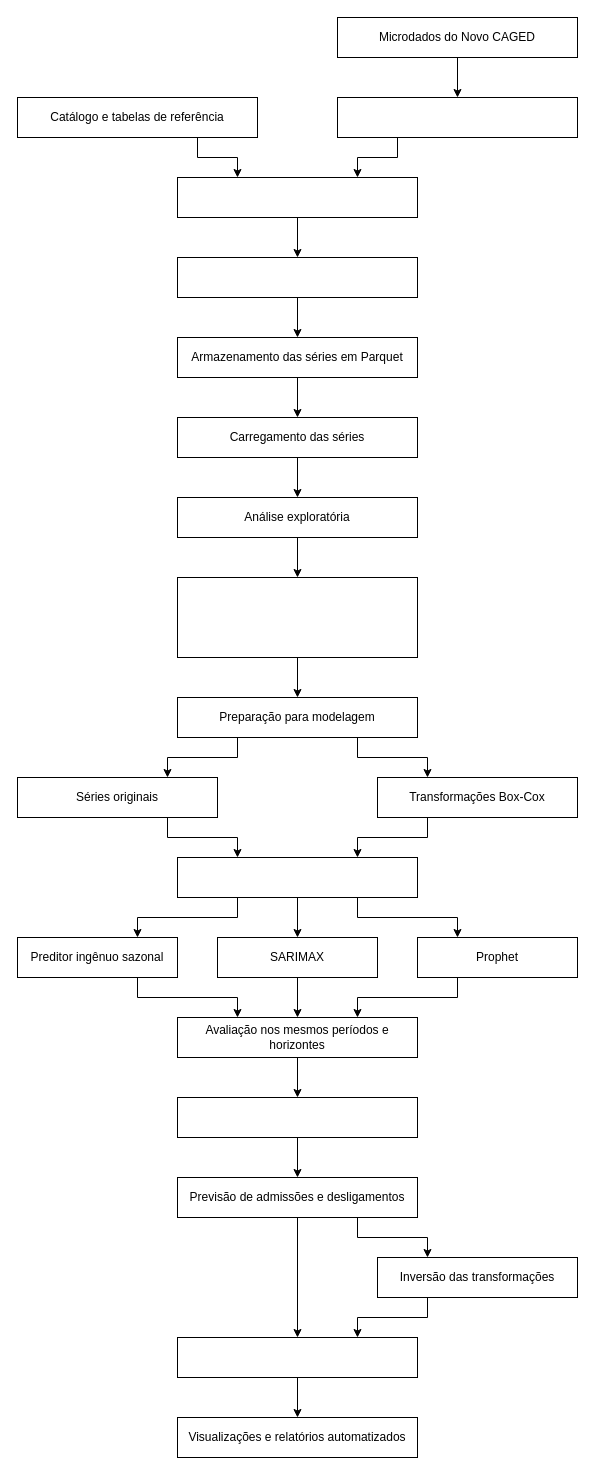
Some shapes in this 595 by 1475 pixel diagram are drawn without their labels. The centre of each missing label's shape, as x and y in pixels:
"Agregação mensal por UF" belongs at pixel 297 277.
"Comparação de métricas e seleção de modelo" belongs at pixel 297 1117.
"Cálculo de saldo: admi. - desl." belongs at pixel 297 1357.
"Data Split: treino, teste e validação" belongs at pixel 297 877.
"Diagnóstico: ADF, KPSS, decomposição e ACF/PACF" belongs at pixel 297 617.
"ETL:limpeza, filtros e validação" belongs at pixel 297 197.
"Extração e organização" belongs at pixel 457 117.
